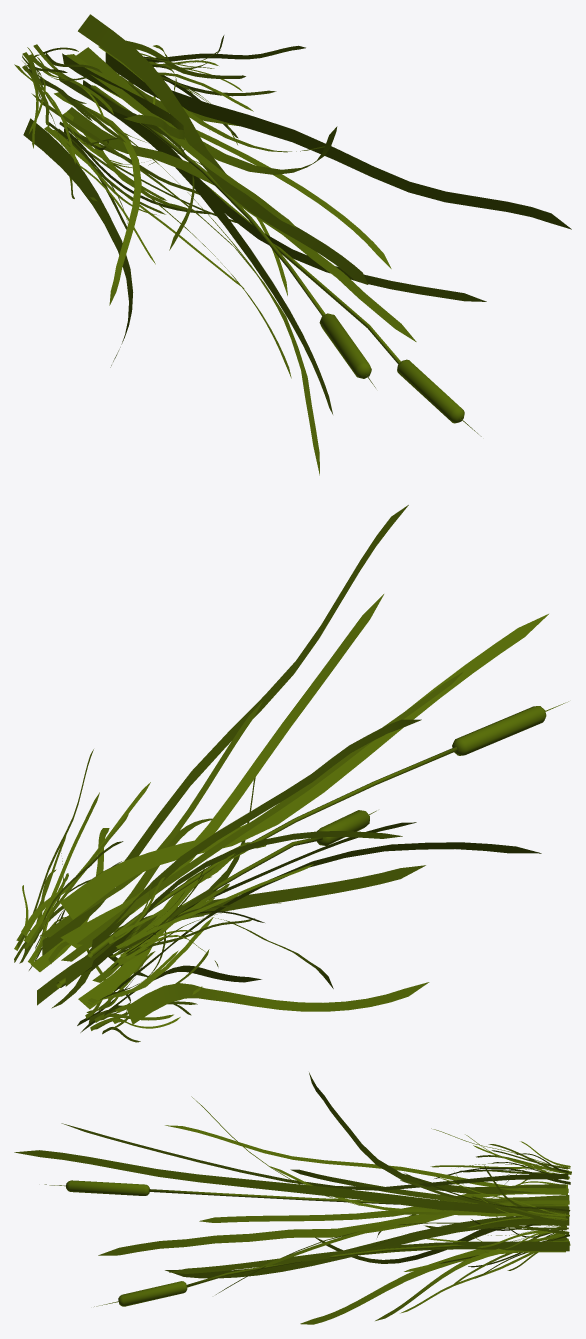
The model's file is cattails.obj.
3 views of the same model, one above another, from view 1: azimuth 30°, elevation 25°; view 2: azimuth 150°, elevation 25°; view 3: azimuth 270°, elevation 25° (orthographic). The views are drawn at different scales.
Visible parts, largest first — view 1: Hi_Res_Cattail001; view 2: Hi_Res_Cattail001; view 3: Hi_Res_Cattail001.
Part boxes in pixels (x1,y1,x2,y2): Hi_Res_Cattail001: [14, 14, 571, 475]; Hi_Res_Cattail001: [14, 505, 568, 1042]; Hi_Res_Cattail001: [14, 1072, 571, 1324].
Size of the model in its own units: 0.6124 by 0.6953 by 1.61.
